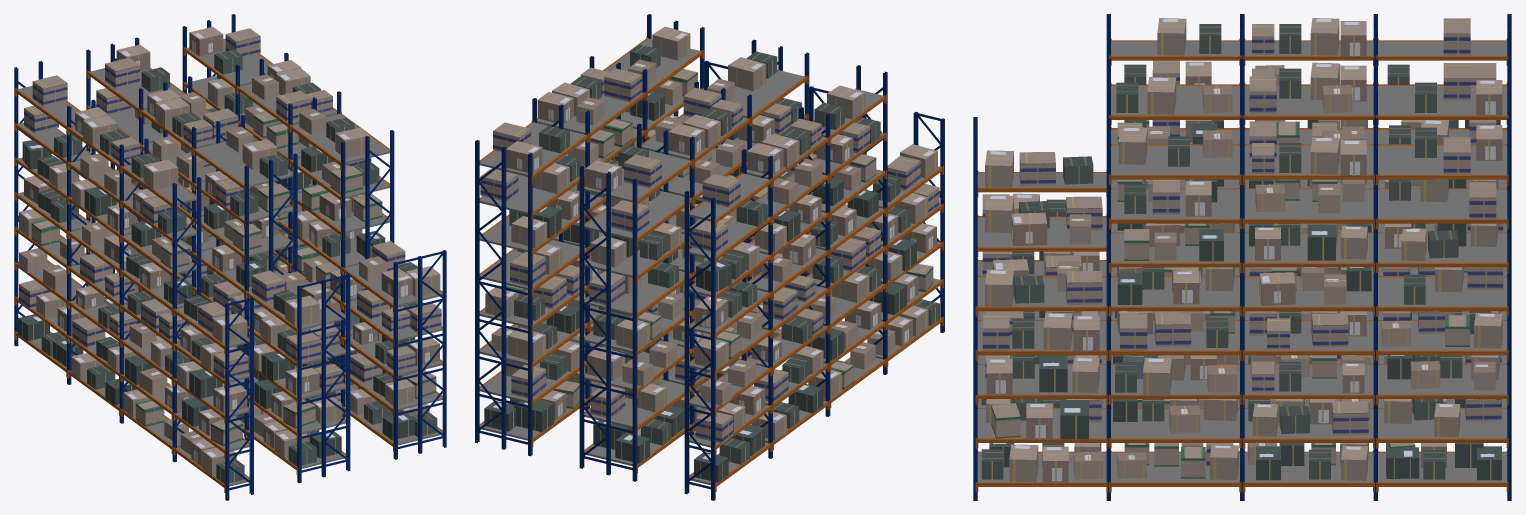
File: MegaRack.fbx
The picture shows the model from 3 angles, left to right: view 1: azimuth 30°, elevation 25°; view 2: azimuth 150°, elevation 25°; view 3: azimuth 270°, elevation 25°; orthographic projection. The views are drawn at different scales.
Parts seen in each view (by area): view 1: mezanine racking.009, mezanine racking.005, mezanine racking, mezanine racking.008, mezanine racking.006, mezanine racking.004, mezanine racking.002, mezanine racking.001, mezanine racking.003, mezanine racking.007, mezanine racking.010, mezanine racking.011 (+103 smaller); view 2: mezanine racking.009, mezanine racking.005, mezanine racking, mezanine racking.008, mezanine racking.004, mezanine racking.001, mezanine racking.011, mezanine racking.010, dus.155, dus.481, dus.292, dus.323 (+100 smaller); view 3: mezanine racking, mezanine racking.005, mezanine racking.003, mezanine racking.001, mezanine racking.009, mezanine racking.007, mezanine racking.011, mezanine racking.002, dus.177, dus.198, dus.201, dus.232 (+116 smaller).
Boxes of the visible parts, x1=… form: mezanine racking.009: x1=14, y1=85, x2=196, y2=454; mezanine racking.005: x1=87, y1=68, x2=293, y2=436; mezanine racking: x1=183, y1=38, x2=389, y2=406; mezanine racking.008: x1=14, y1=61, x2=201, y2=462; mezanine racking.006: x1=297, y1=273, x2=350, y2=483; mezanine racking.004: x1=86, y1=37, x2=297, y2=441; mezanine racking.002: x1=393, y1=250, x2=446, y2=459; mezanine racking.001: x1=182, y1=14, x2=394, y2=416; mezanine racking.003: x1=341, y1=264, x2=442, y2=451; mezanine racking.007: x1=245, y1=290, x2=345, y2=475; mezanine racking.010: x1=225, y1=297, x2=253, y2=500; mezanine racking.011: x1=173, y1=307, x2=249, y2=493; mezanine racking.009: x1=689, y1=88, x2=886, y2=492; mezanine racking.005: x1=584, y1=70, x2=808, y2=473; mezanine racking: x1=479, y1=36, x2=703, y2=447; mezanine racking.008: x1=684, y1=65, x2=887, y2=500; mezanine racking.004: x1=579, y1=39, x2=809, y2=481; mezanine racking.001: x1=475, y1=14, x2=704, y2=456; mezanine racking.011: x1=872, y1=166, x2=943, y2=366; mezanine racking.010: x1=913, y1=111, x2=944, y2=332; dus.155: x1=604, y1=68, x2=642, y2=102; dus.481: x1=702, y1=173, x2=740, y2=207; dus.292: x1=728, y1=57, x2=766, y2=91; dus.323: x1=624, y1=154, x2=661, y2=188; mezanine racking: x1=1109, y1=142, x2=1508, y2=492; mezanine racking.005: x1=1109, y1=83, x2=1508, y2=407; mezanine racking.003: x1=975, y1=274, x2=1108, y2=492; mezanine racking.001: x1=1106, y1=118, x2=1511, y2=500; mezanine racking.009: x1=1109, y1=38, x2=1508, y2=128; mezanine racking.007: x1=977, y1=215, x2=1106, y2=407; mezanine racking.011: x1=977, y1=170, x2=1106, y2=260; mezanine racking.002: x1=973, y1=221, x2=977, y2=500; dus.177: x1=1154, y1=312, x2=1191, y2=346; dus.198: x1=1332, y1=401, x2=1368, y2=435; dus.201: x1=1312, y1=313, x2=1348, y2=347; dus.232: x1=1066, y1=271, x2=1102, y2=304.
Bounding box in the file's own units: 504 × 600 × 833.
